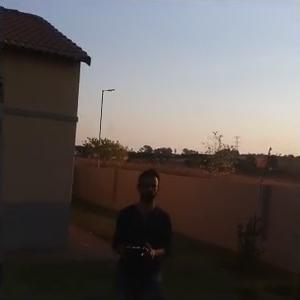follow: (107, 163, 174, 298)
